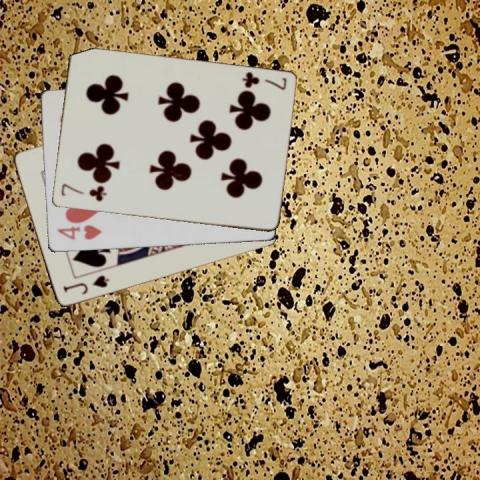4h: (54, 224, 103, 241)
7c: (57, 182, 108, 204), (239, 70, 288, 92)
Js: (60, 272, 111, 297)
